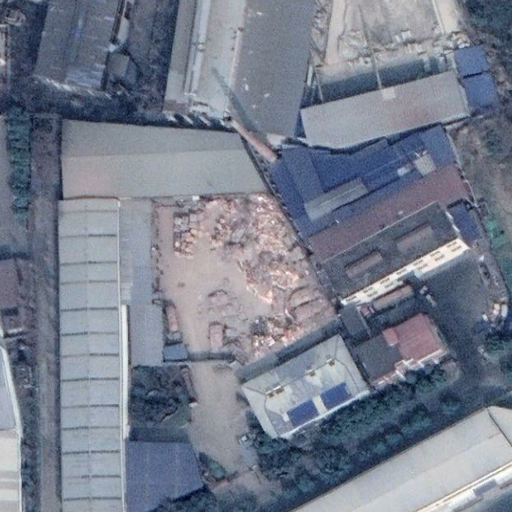msw: (209, 194, 327, 359)
